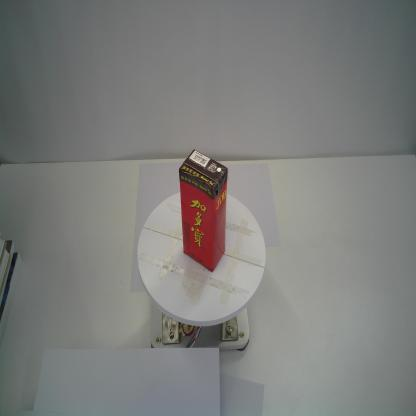Drink: (178, 148, 226, 273)
